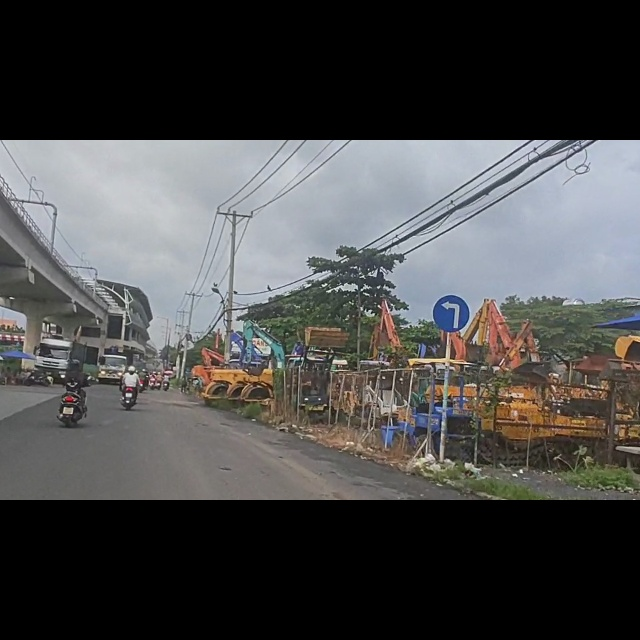bien_hieu_lenh: (431, 273, 470, 344)
